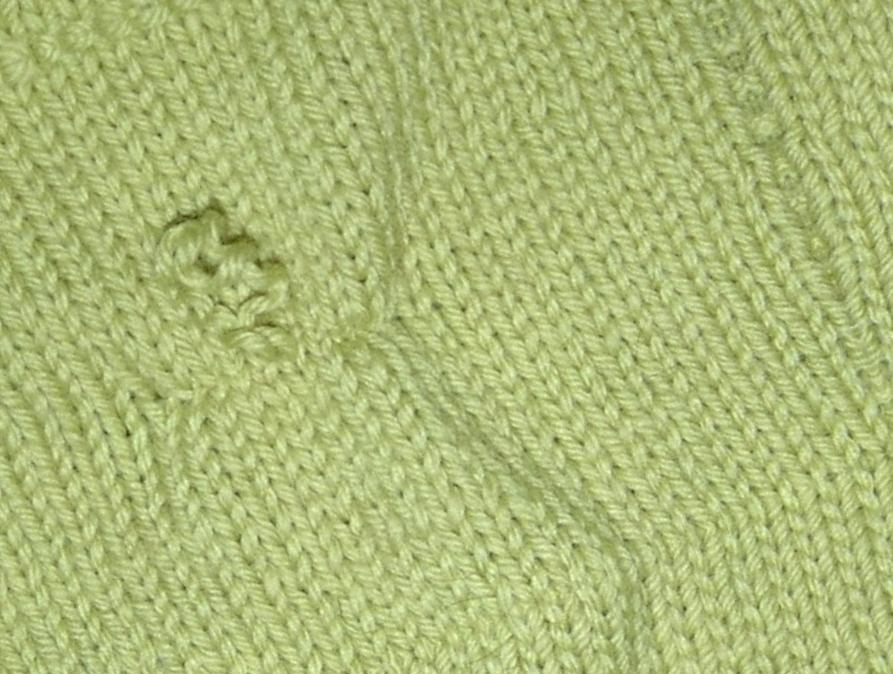knot: (153, 202, 297, 370)
